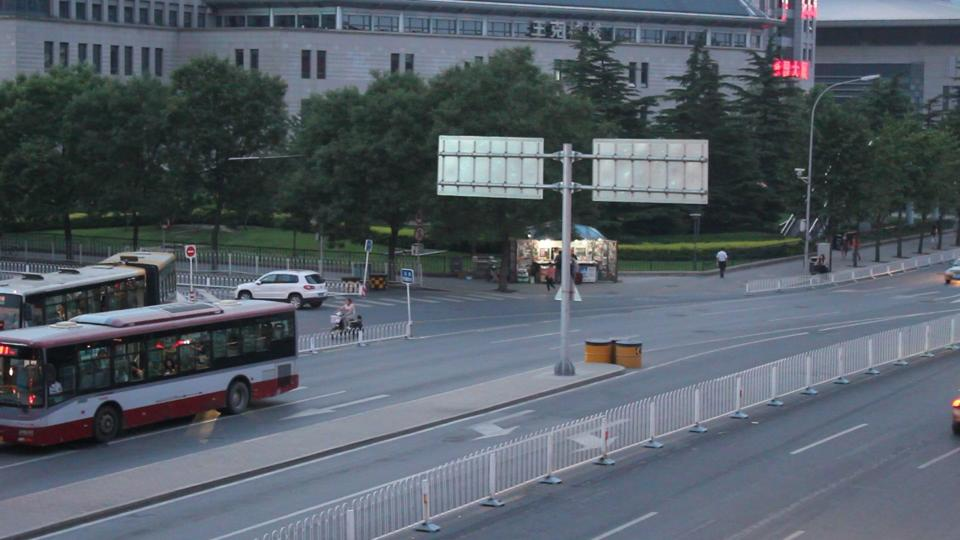Bus: (1, 298, 301, 445), (1, 252, 178, 344)
Car: (243, 261, 334, 303), (181, 281, 251, 326)
